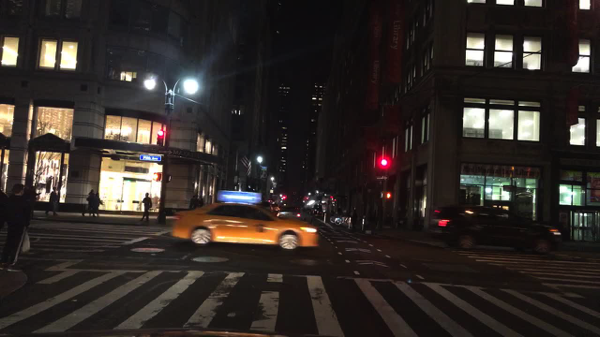bike: (328, 216, 348, 225), (336, 218, 352, 226)
car: (170, 191, 319, 251), (426, 205, 563, 257), (276, 205, 302, 221)
person: (0, 184, 33, 274), (82, 189, 96, 219), (45, 188, 58, 218), (1, 189, 8, 244), (140, 193, 151, 221), (93, 192, 104, 217), (351, 206, 359, 230), (194, 193, 199, 208), (336, 206, 342, 217), (199, 195, 203, 207), (190, 195, 193, 207)
traffic light: (154, 129, 164, 146), (381, 159, 387, 175), (151, 172, 160, 181), (167, 172, 171, 183), (384, 192, 390, 199), (378, 192, 383, 198), (281, 193, 286, 199), (305, 195, 308, 201)
traffic sign: (139, 154, 161, 162), (375, 176, 389, 180)
